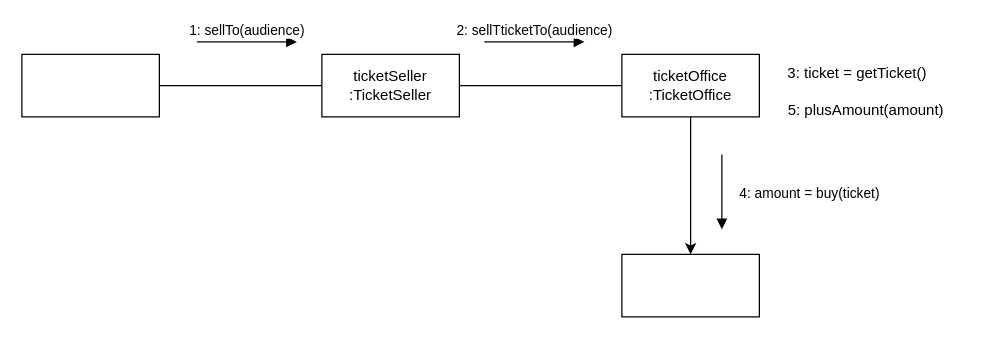
This 981x339 diagram has some shape labels left out. Here are the shapes that lost their labels. From the top down, the centre of each, then its label:
(90,85): :Theater
(690,285): audience :Audience
